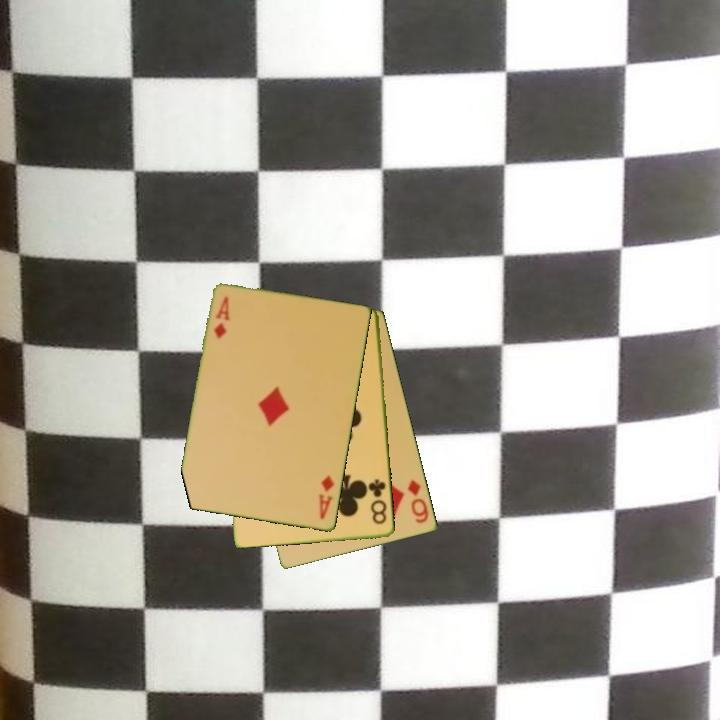6d: (405, 476, 432, 526)
8c: (365, 476, 390, 528)
Ad: (315, 472, 337, 523), (211, 293, 233, 342)
